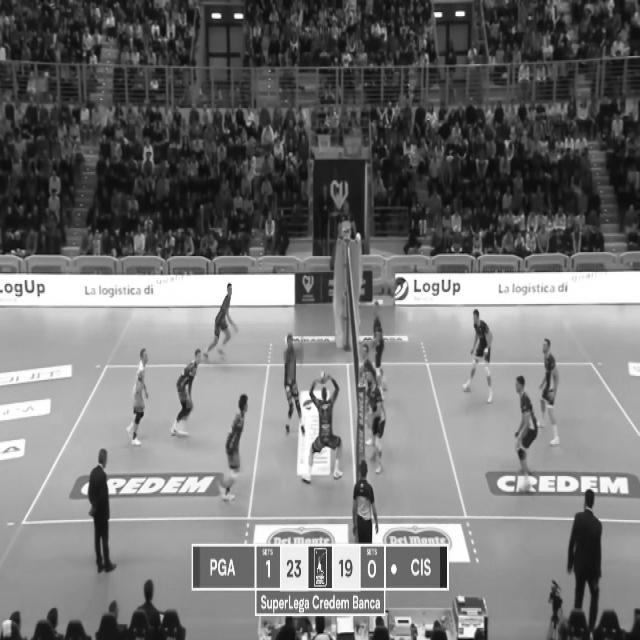volleyball court: (22, 359, 639, 521)
